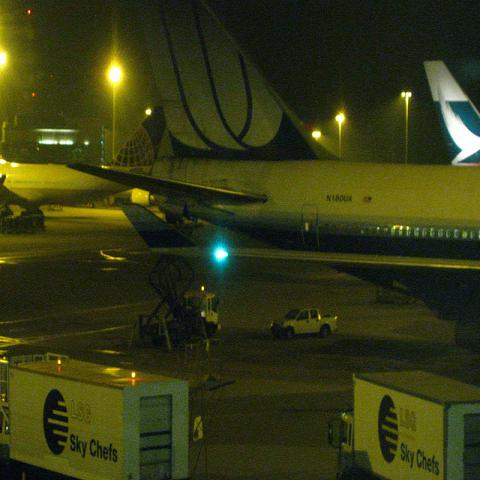car: (271, 309, 336, 340)
truck: (0, 344, 189, 480), (329, 370, 480, 473), (138, 253, 222, 351), (271, 307, 338, 341)
